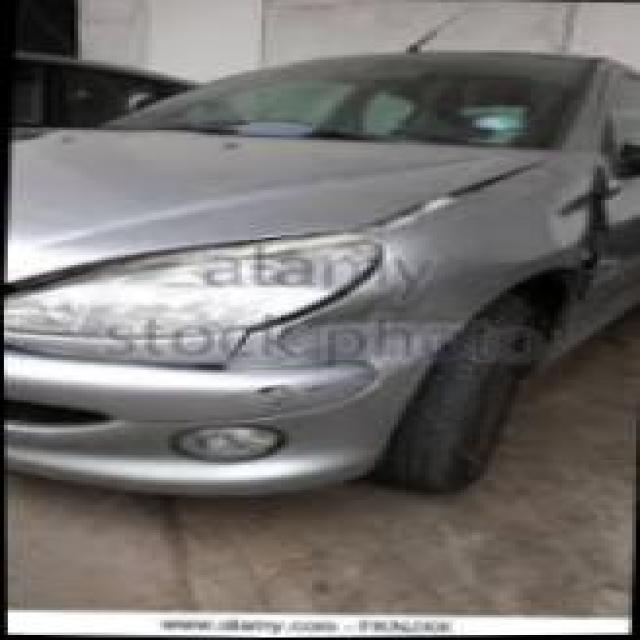Bumper: (203, 345, 387, 454)
